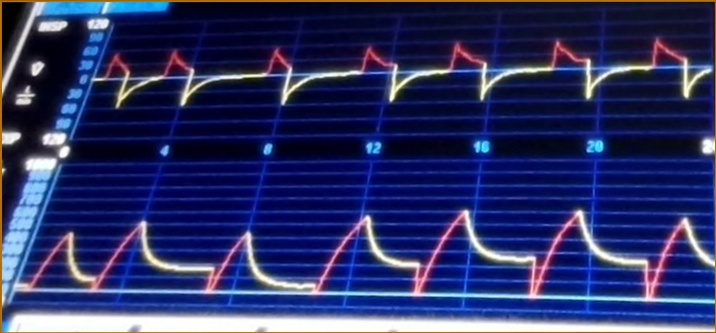Flow: (107, 30, 711, 133)
Leakage Volume: (46, 195, 711, 308)
